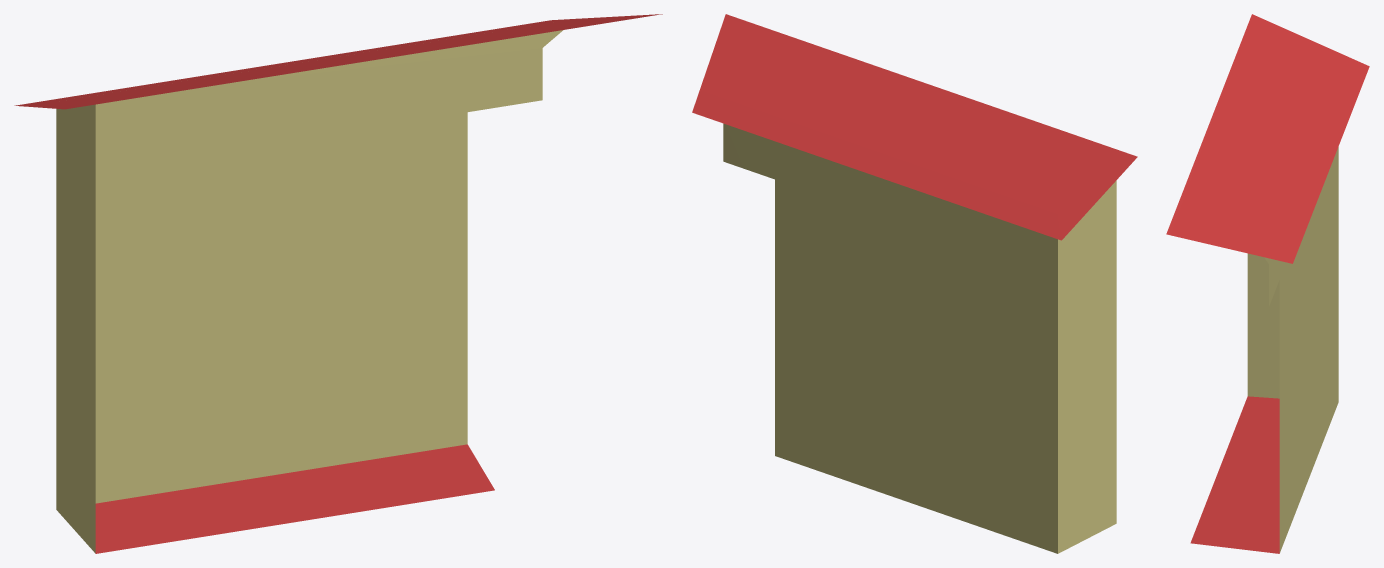
The picture shows the model from 3 angles, left to right: view 1: azimuth 30°, elevation 25°; view 2: azimuth 150°, elevation 25°; view 3: azimuth 270°, elevation 25°; orthographic projection. The views are drawn at different scales.
Size of the model in its own units: 14.39 by 5.62 by 11.3.
